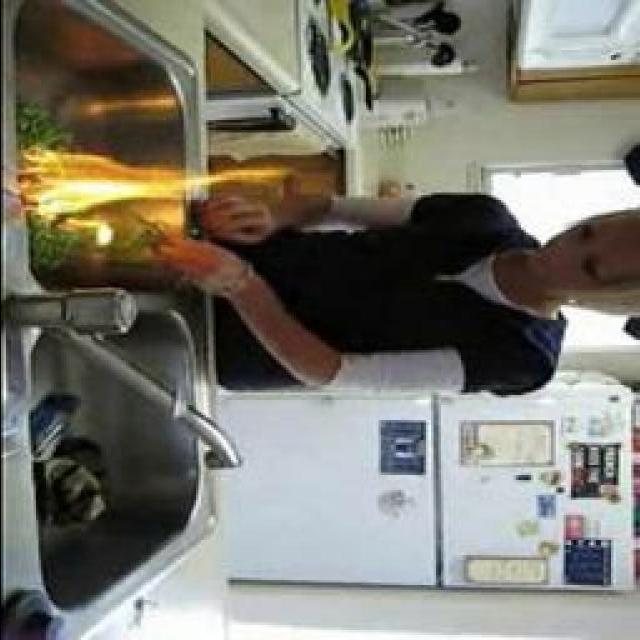Fire: (23, 148, 264, 222)
